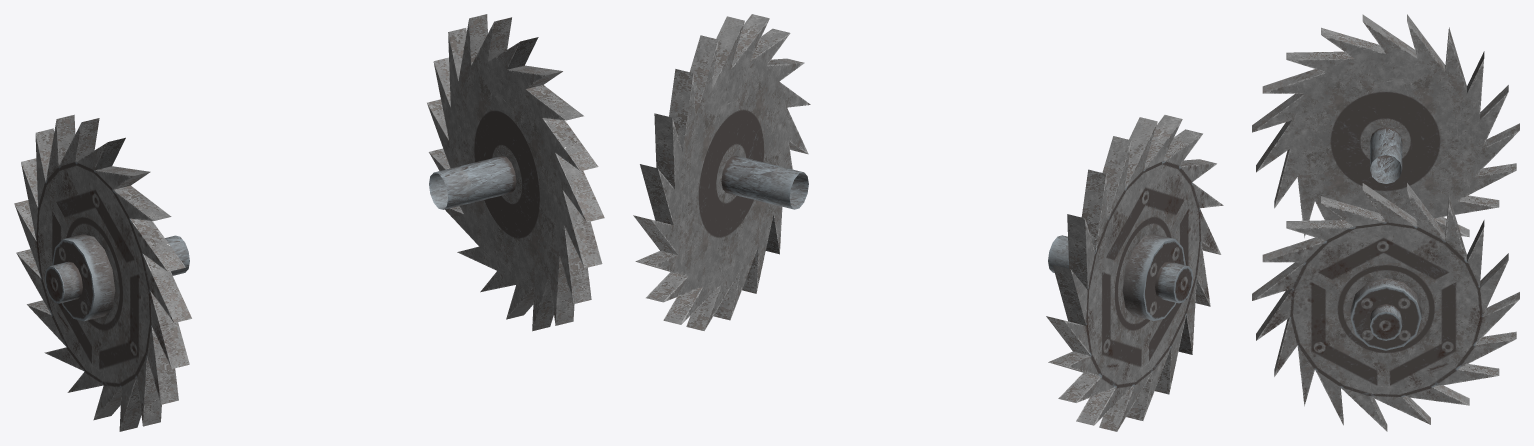
File: LEG_CHIBI_DISC_SAW.fbx
3 views of the same model, side by side, from view 1: azimuth 30°, elevation 25°; view 2: azimuth 150°, elevation 25°; view 3: azimuth 270°, elevation 25° (orthographic). The views are drawn at different scales.
Parts seen in each view (by area): view 1: LEG_DISC_SAW_LEFT, LEG_DISC_SAW_RIGHT; view 2: LEG_DISC_SAW_RIGHT, LEG_DISC_SAW_LEFT; view 3: LEG_DISC_SAW_LEFT, LEG_DISC_SAW_RIGHT.
Part boxes in pixels (<box>): LEG_DISC_SAW_LEFT: <box>427,14,604,331</box>; LEG_DISC_SAW_RIGHT: <box>14,114,191,431</box>; LEG_DISC_SAW_RIGHT: <box>1046,115,1223,431</box>; LEG_DISC_SAW_LEFT: <box>633,14,810,330</box>; LEG_DISC_SAW_LEFT: <box>1252,183,1519,431</box>; LEG_DISC_SAW_RIGHT: <box>1252,14,1519,237</box>.
Size of the model in its own units: 0.0448 by 0.0243 by 0.0244.
